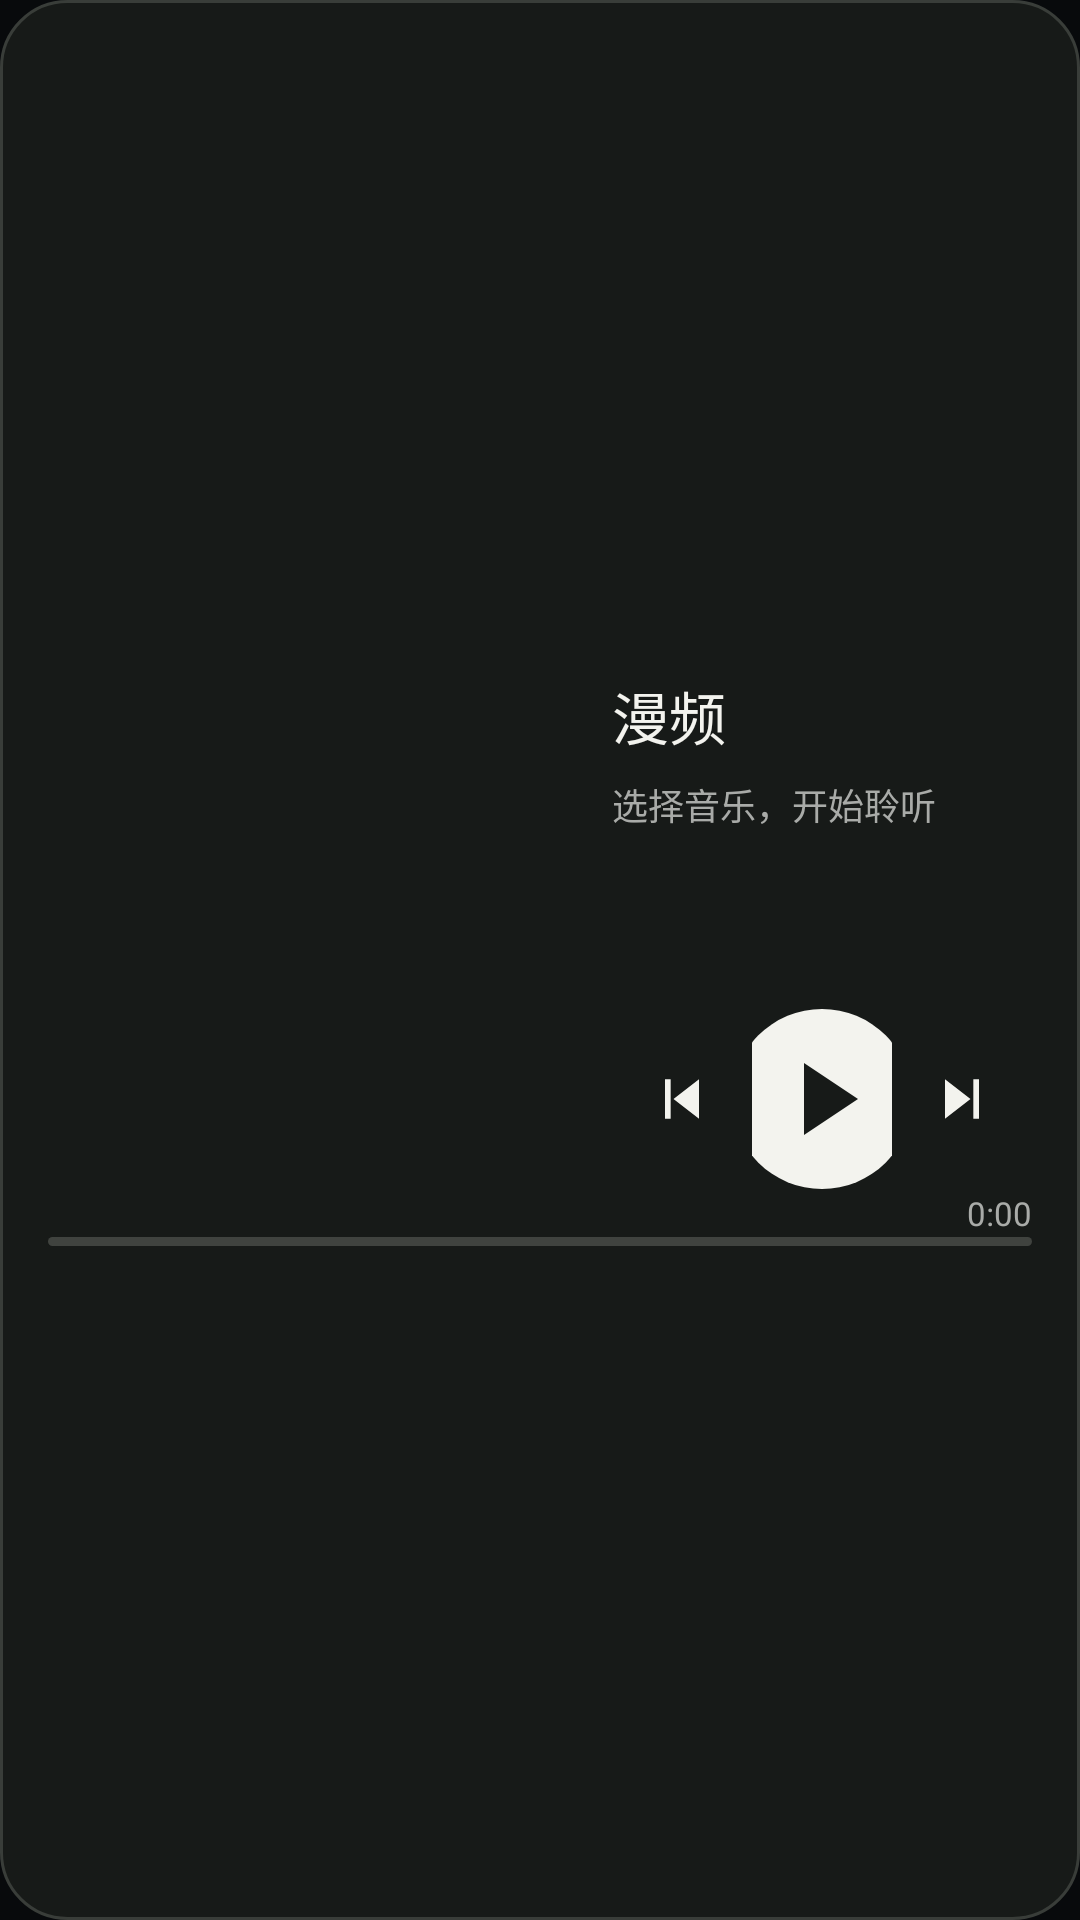

Icons on this 1080*1920 Android screen, each with the point to tap as [x,y]:
上一首: [682,1099]
下一首: [962,1099]
